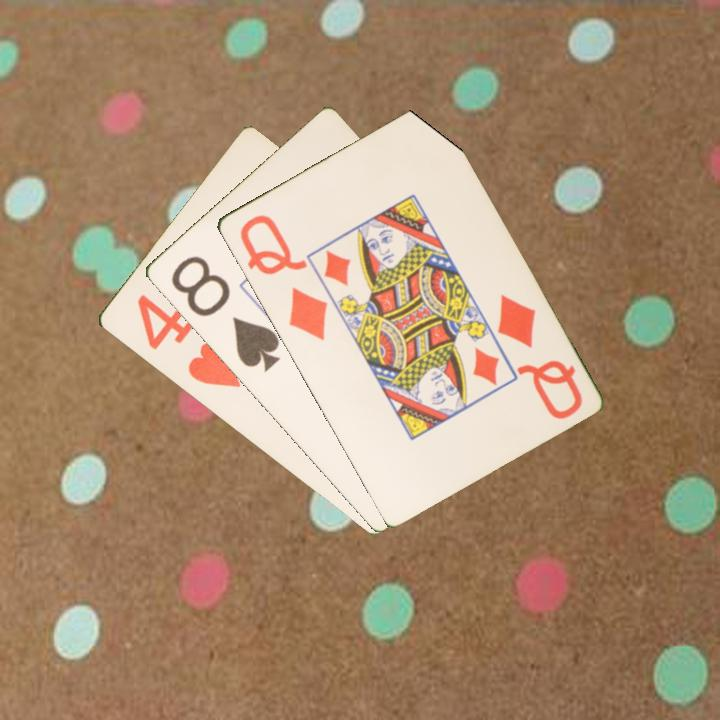4h: (132, 290, 243, 391)
8s: (166, 252, 283, 375)
Qd: (235, 210, 330, 343), (493, 290, 585, 424)
